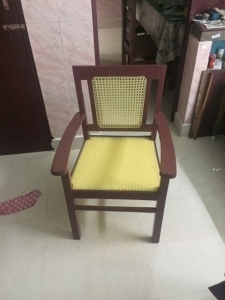chair: (51, 65, 177, 244)
